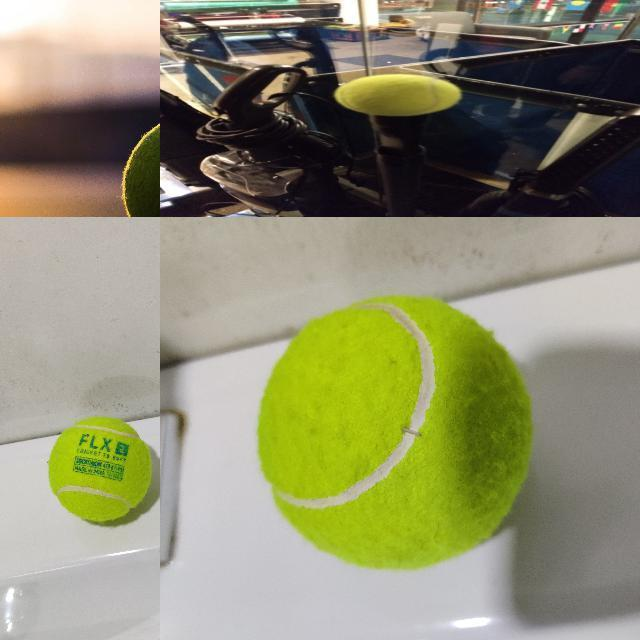tennis-ball: (255, 293, 534, 571), (46, 416, 152, 522), (333, 74, 463, 117)
